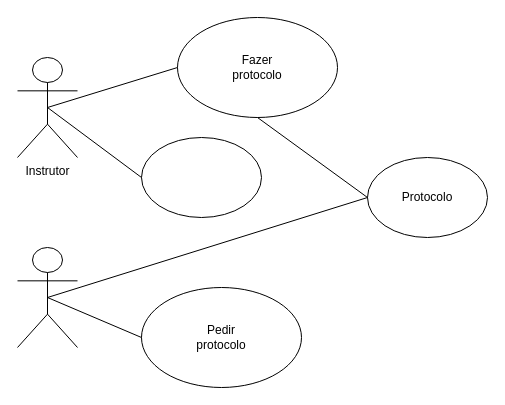
Image size: 505x405. Some labels were removed from this diagram. The shapes that lost their labels are listed below. From the top down, each one's centre as x and y in pixels, then its label:
At (201,177): "Listar alunos".
At (47,297): "Alunos".
